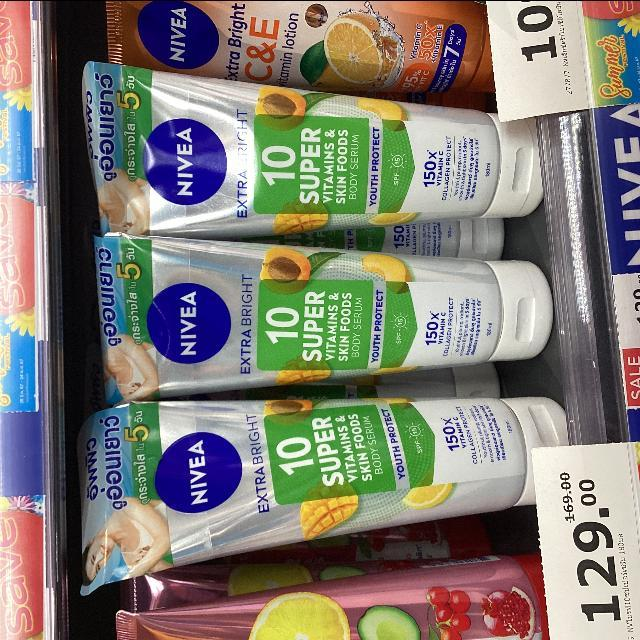Squeeze Tube: (73, 42, 582, 578), (83, 394, 568, 594), (83, 60, 549, 245), (100, 239, 553, 409)
